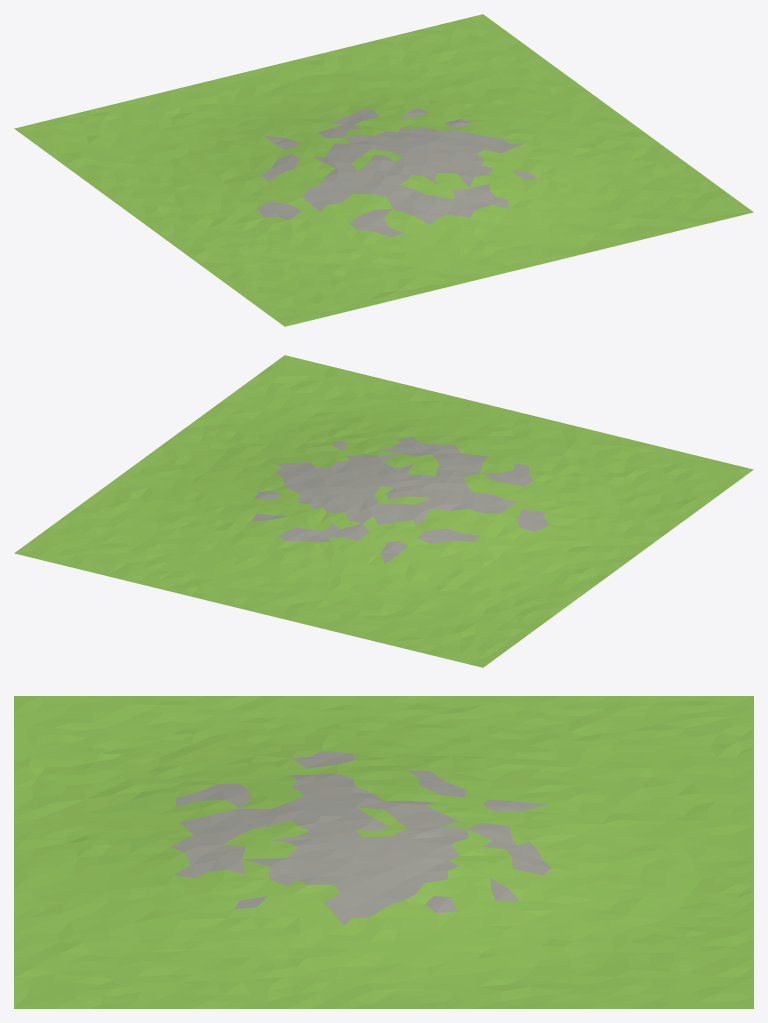
The model's file is terrain_l_b_03.glb.
3 renders of one model, top to bottom at view 1: azimuth 30°, elevation 25°; view 2: azimuth 150°, elevation 25°; view 3: azimuth 270°, elevation 25°, orthographic. The views are drawn at different scales.
Visible parts, largest first — view 1: CPT_Terrain_L_b_03; view 2: CPT_Terrain_L_b_03; view 3: CPT_Terrain_L_b_03.
Part boxes in pixels (bbox=[...]): CPT_Terrain_L_b_03: bbox=[14, 14, 753, 326]; CPT_Terrain_L_b_03: bbox=[14, 355, 753, 667]; CPT_Terrain_L_b_03: bbox=[14, 696, 753, 1008].
Bounding box in the file's own units: 100 × 3.51 × 100.
Materials: 1 (1 with a texture image).
